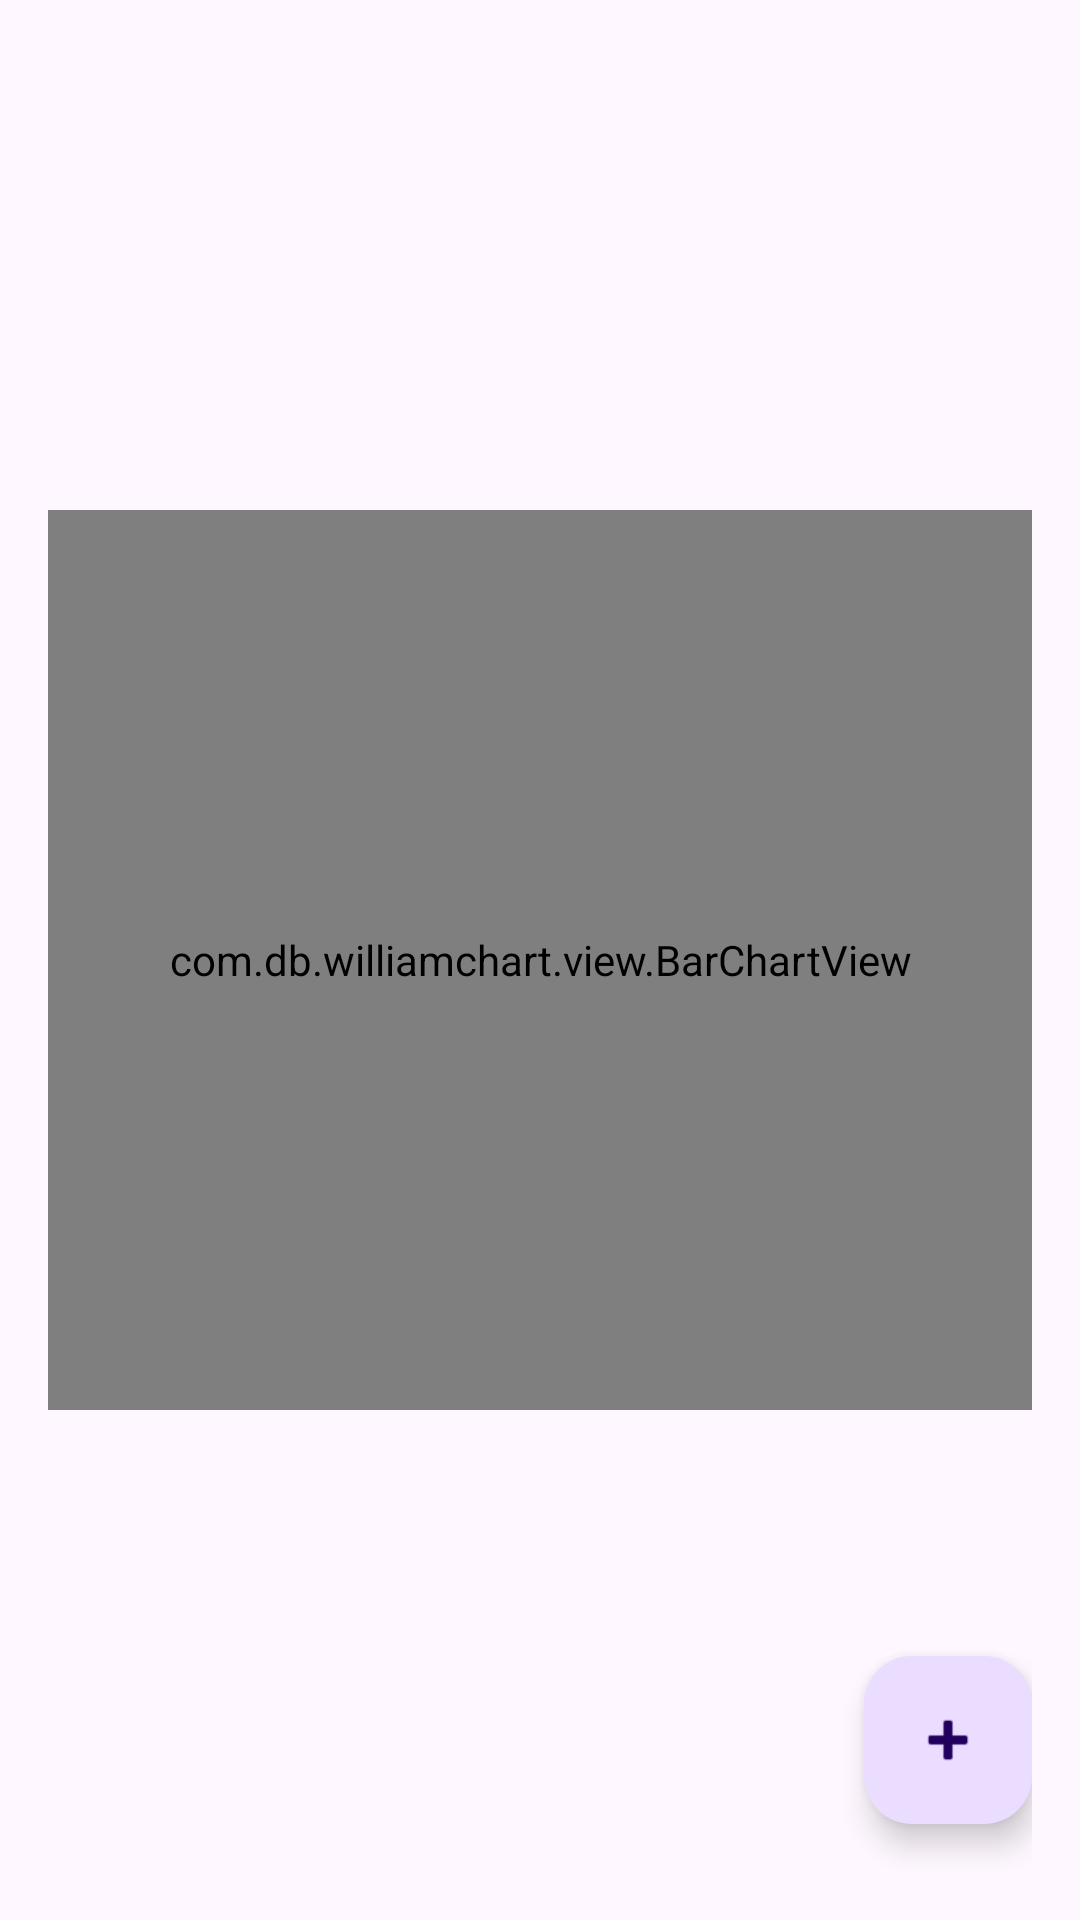

Locate icon controls on the screen. Image size 1080 x 1920, boxes as rect(x1, y1, x2, y2).
add: rect(864, 1656, 1032, 1824)
